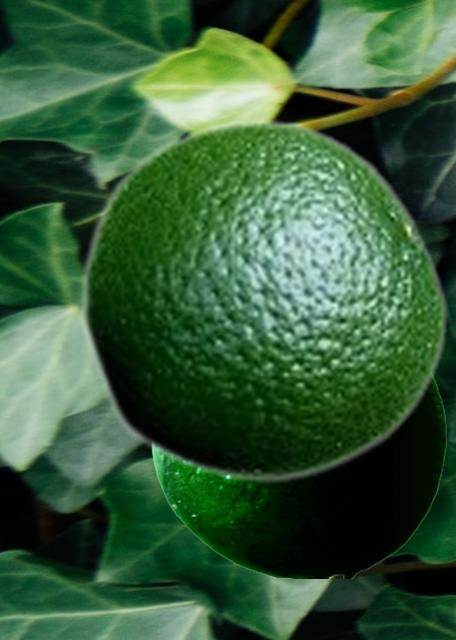calamansi: (78, 117, 449, 484), (151, 377, 445, 577)
